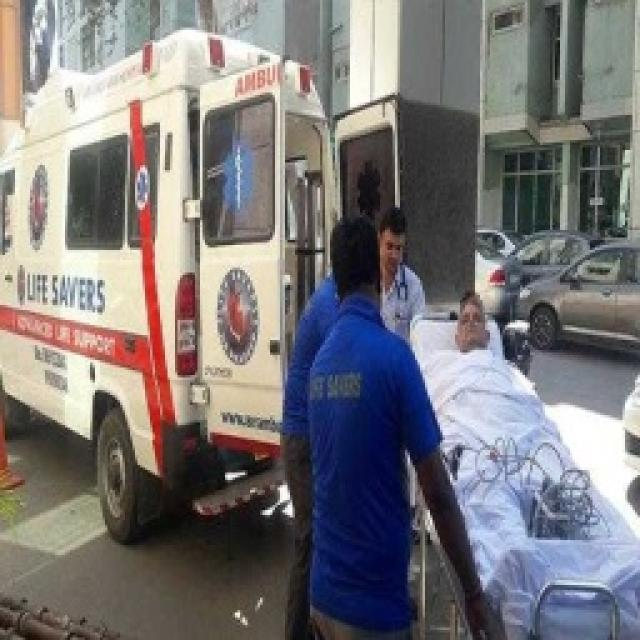emergency-vehicle: (0, 35, 350, 545)
